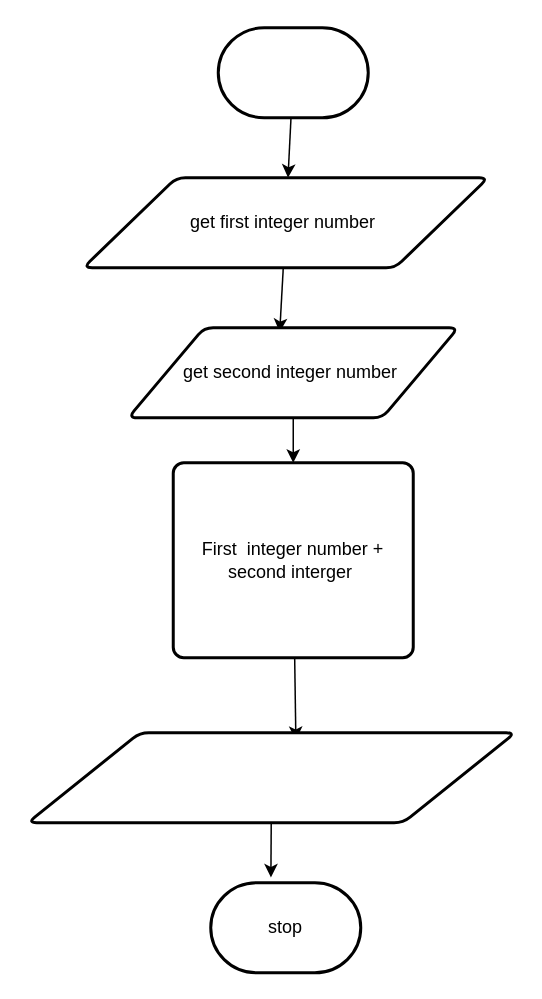
Some shapes in this 542 by 999 pixel diagram are drawn without their labels. The shapes that lost their labels are listed below. From the top down, each one's centre as x and y in pixels, then its label:
the point at 292,72: start
the point at 271,777: show total of first and second integer number
